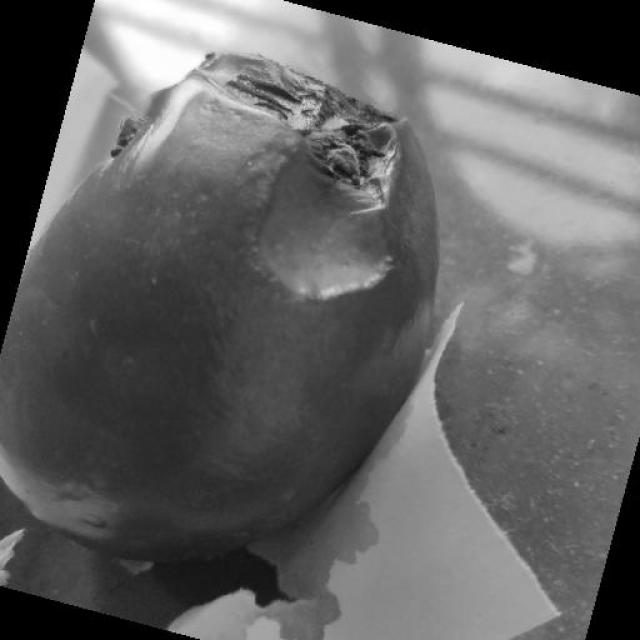Stale_tomato: (40, 40, 455, 471)
